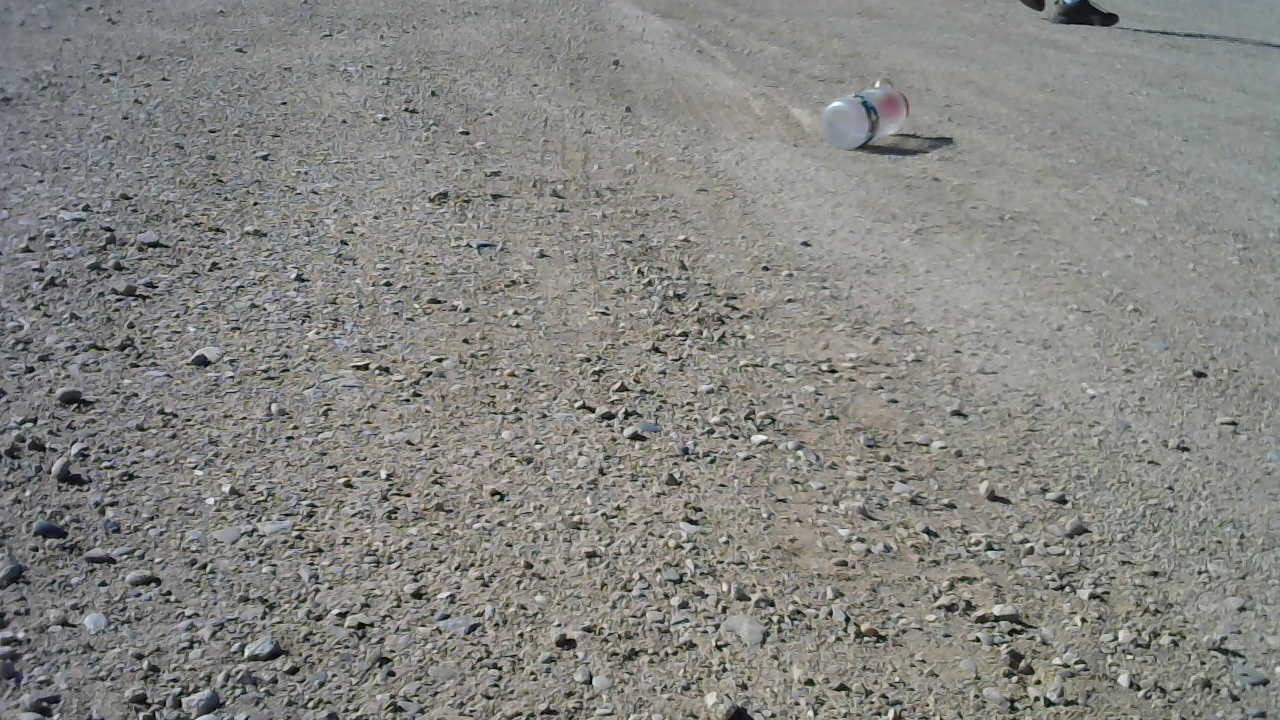bottle: (822, 71, 911, 151)
